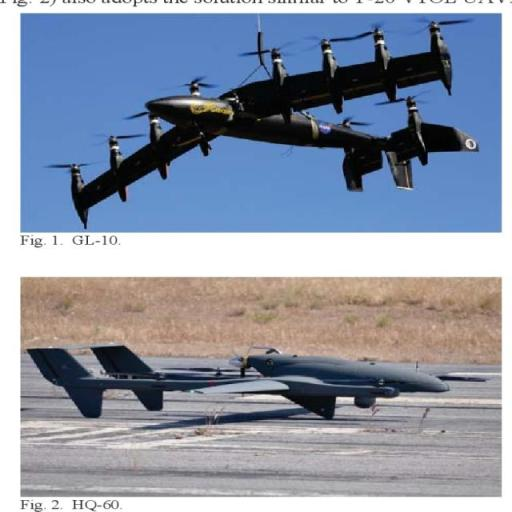uav: (24, 324, 491, 440)
